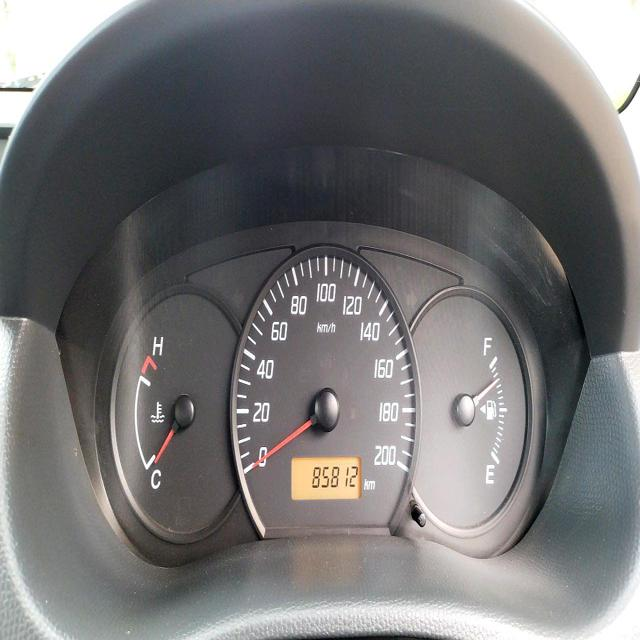odometer: (311, 464, 358, 491)
